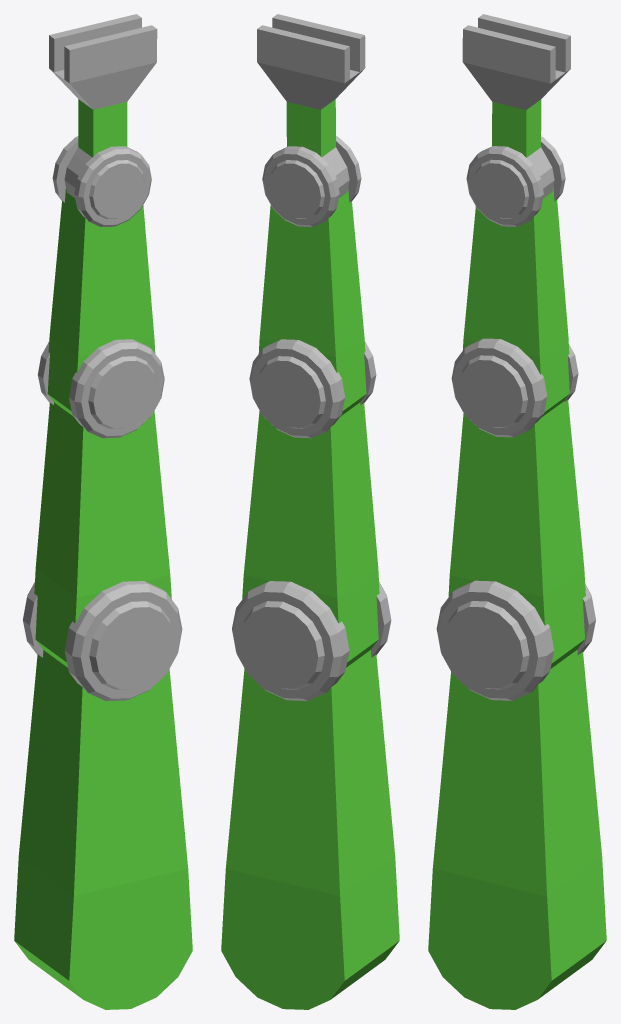
The model's file is arm_meshes.glb.
3 renders of one model, left to right at view 1: azimuth 30°, elevation 25°; view 2: azimuth 150°, elevation 25°; view 3: azimuth 330°, elevation 25°, orthographic.
Visible parts, largest first — view 1: Cylinder.003, Cylinder.001, Cylinder.005, Cylinder.004; view 2: Cylinder.003, Cylinder.001, Cylinder.005, Cylinder.004; view 3: Cylinder.003, Cylinder.001, Cylinder.005, Cylinder.004.
Part boxes in pixels (box(x1,y1,x2,y2)): Cylinder.003: box(14, 581, 192, 1009); Cylinder.001: box(34, 339, 171, 667); Cylinder.005: box(47, 136, 155, 416); Cylinder.004: box(49, 14, 157, 197); Cylinder.003: box(221, 581, 399, 1009); Cylinder.001: box(242, 339, 379, 667); Cylinder.005: box(258, 136, 366, 416); Cylinder.004: box(257, 14, 365, 197); Cylinder.003: box(428, 580, 606, 1009); Cylinder.001: box(448, 338, 585, 668); Cylinder.005: box(462, 136, 569, 417); Cylinder.004: box(462, 14, 570, 198).
Size of the model in its own units: 1.65 by 12.2 by 1.48.
